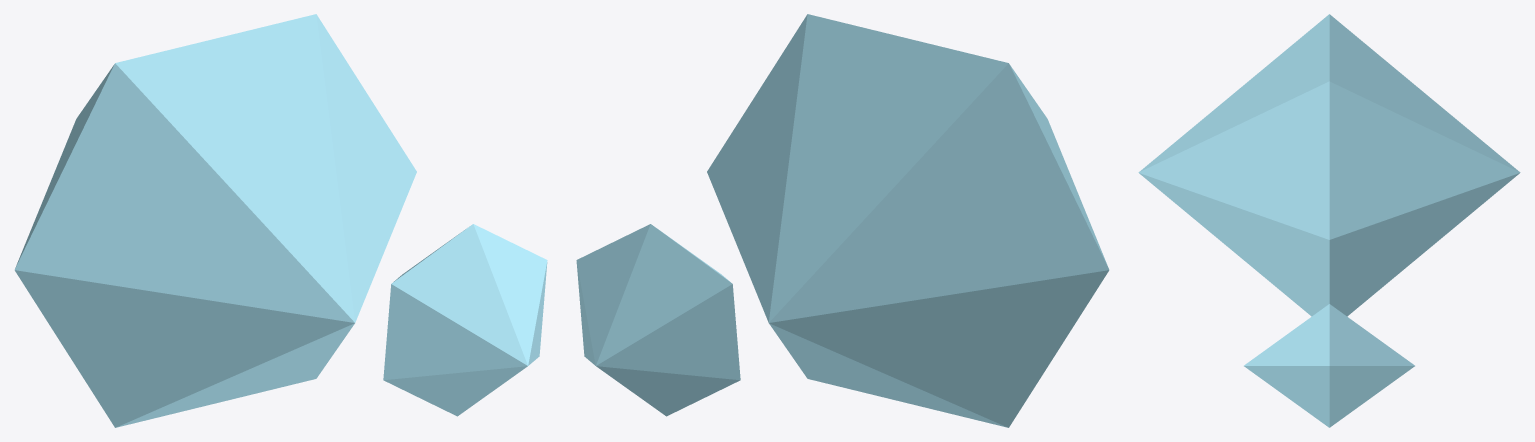
Rendered from crystal.gltf.
3 renders of one model, left to right at view 1: azimuth 30°, elevation 25°; view 2: azimuth 150°, elevation 25°; view 3: azimuth 270°, elevation 25°, orthographic. The views are drawn at different scales.
Visible parts, largest first — view 1: Crystal, Splinter; view 2: Crystal, Splinter; view 3: Crystal, Splinter.
Part boxes in pixels (x1,y1,x2,y2): Crystal: (14,14,416,427); Splinter: (383,224,547,416); Crystal: (707,14,1109,427); Splinter: (576,224,740,416); Crystal: (1138,14,1520,316); Splinter: (1244,304,1414,427).
Bounding box in the file's own units: 1.32 × 1.04 × 1.2.
